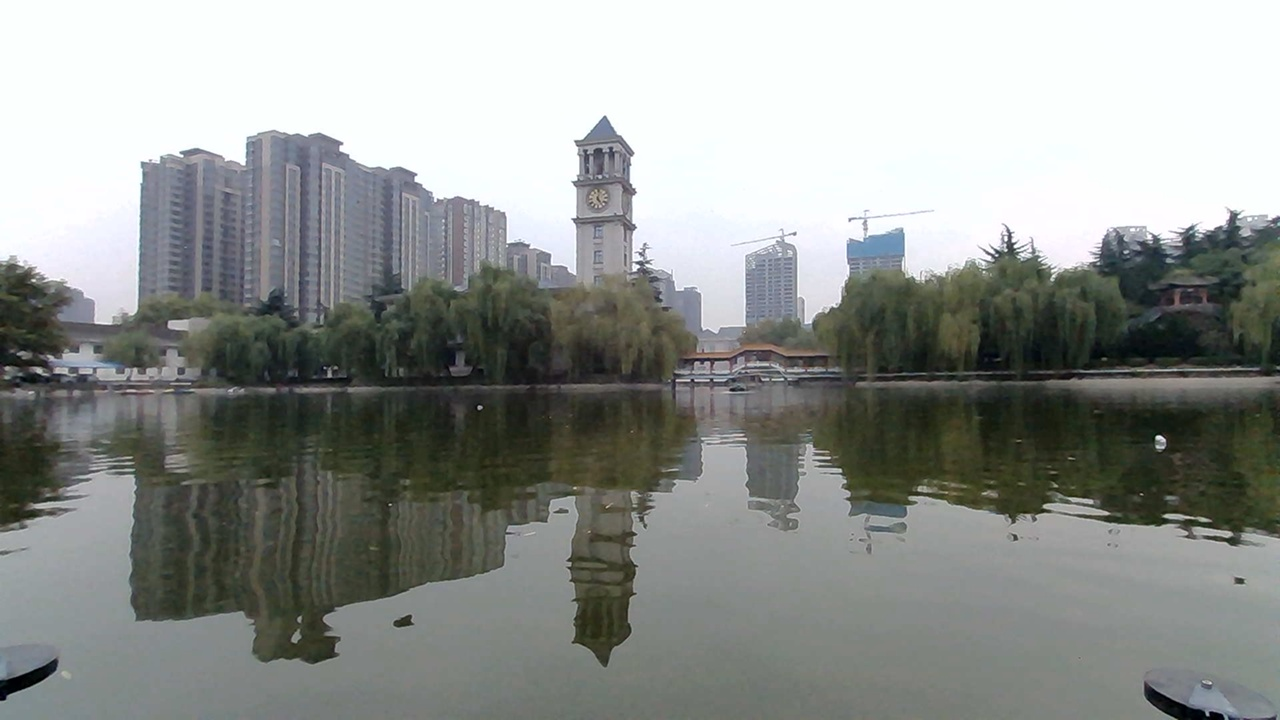bottle: (1134, 427, 1189, 458)
